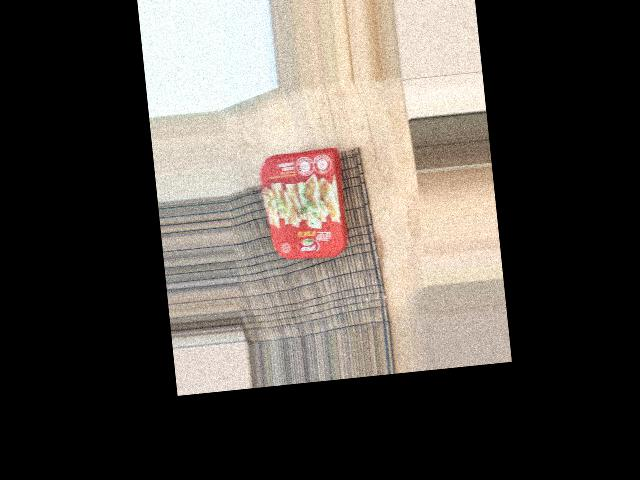cheese: (252, 146, 337, 271)
